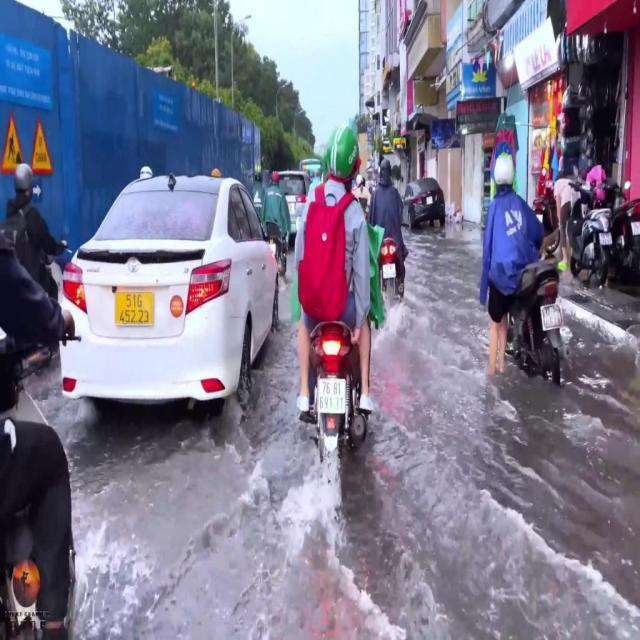227-cong-truong: (0, 112, 28, 174)
245-di-cham: (32, 119, 54, 175)
407a-duong-mot-chieu: (32, 180, 42, 203)
